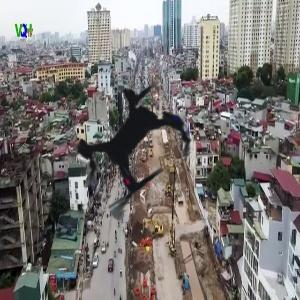drone: (32, 44, 241, 253)
